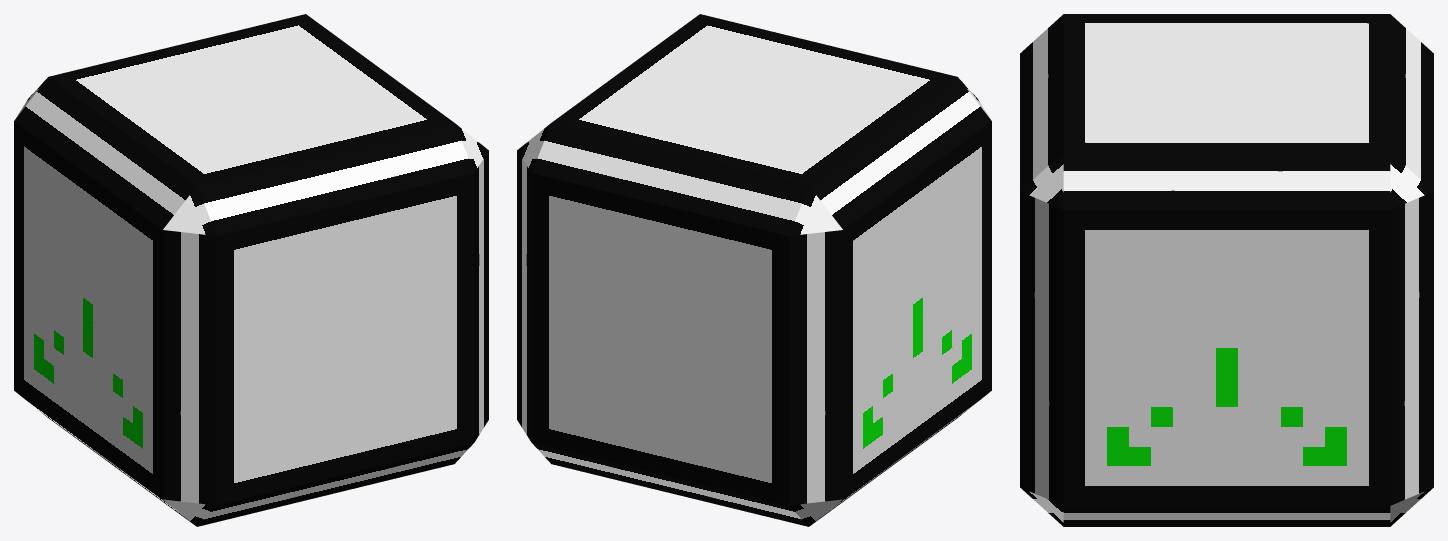
3 views of the same model, side by side, from view 1: azimuth 30°, elevation 25°; view 2: azimuth 150°, elevation 25°; view 3: azimuth 270°, elevation 25° (orthographic). The views are drawn at different scales.
Visible parts, largest first — view 1: beveled_cuboid; view 2: beveled_cuboid; view 3: beveled_cuboid.
Boxes of the visible parts, bbox=[...] form: beveled_cuboid: bbox=[14, 14, 488, 526]; beveled_cuboid: bbox=[517, 14, 991, 526]; beveled_cuboid: bbox=[1020, 14, 1433, 526].
Size of the model in its own units: 1.19 by 1.19 by 1.19.
1 material, 1 textured.
